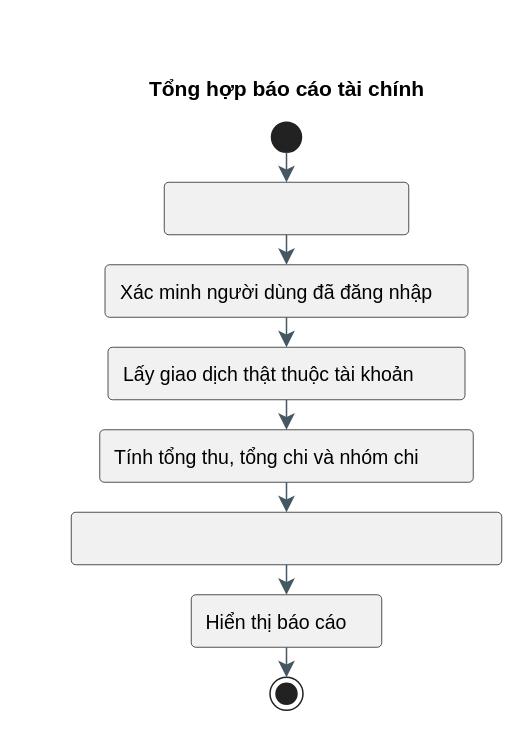
This 528x737 diagram has some shape labels left out. Each missing label, with the box of its shape:
Chọn khoảng thời gian: (163, 181, 408, 234)
Tổng hợp ngân sách và mục tiêu liên quan: (70, 511, 501, 564)
